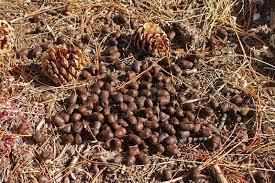Elk: (71, 75, 204, 148)
